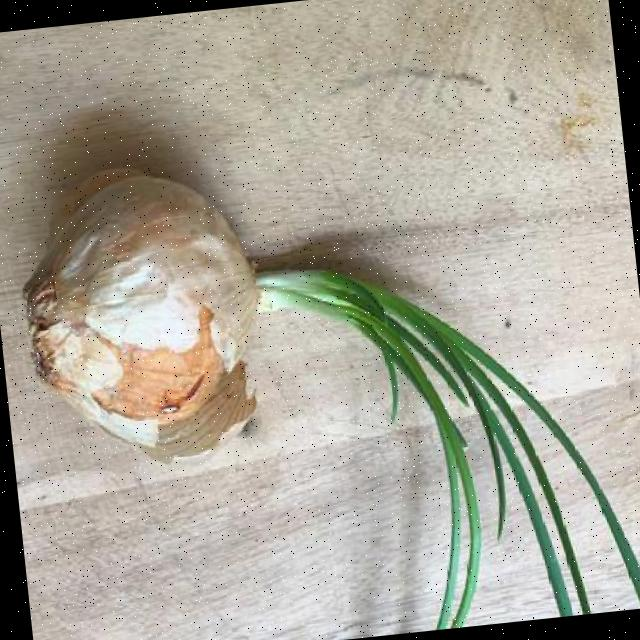Onion: (22, 170, 255, 461)
